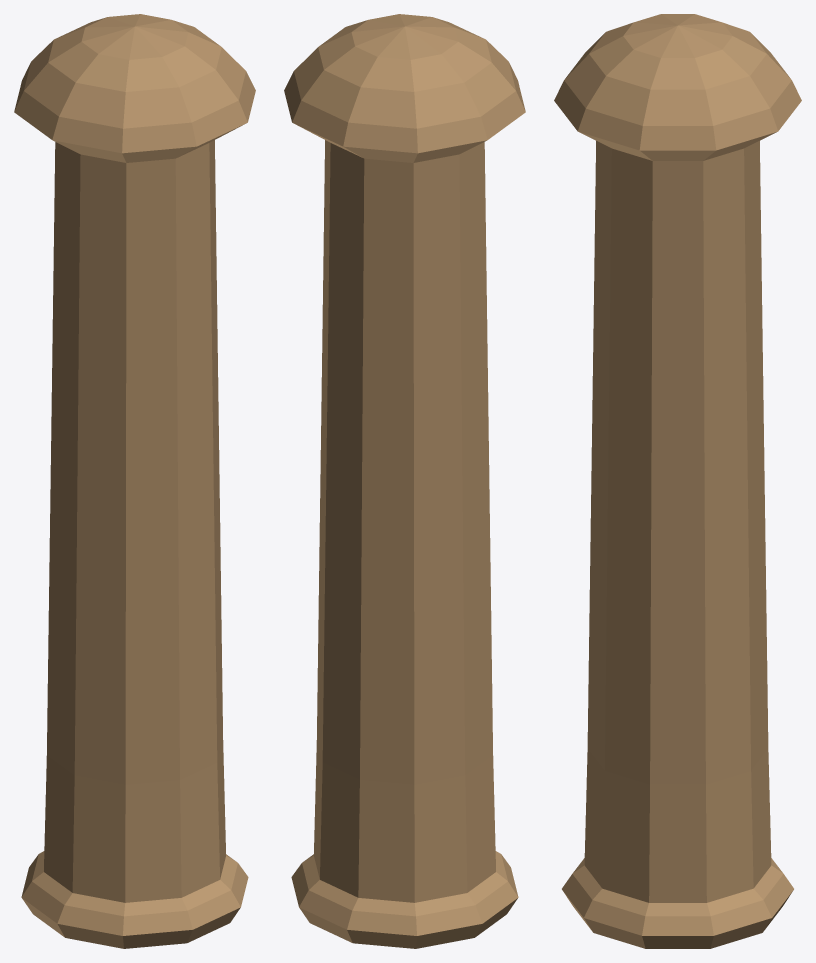
The model's file is env_prop_bollard.glb.
The picture shows the model from 3 angles, left to right: view 1: azimuth 30°, elevation 25°; view 2: azimuth 150°, elevation 25°; view 3: azimuth 270°, elevation 25°; orthographic projection.
Parts seen in each view (by area): view 1: geometry_0; view 2: geometry_0; view 3: geometry_0.
Part boxes in pixels (box(x1,y1,x2,y2)): geometry_0: box(14, 14, 255, 948); geometry_0: box(284, 14, 525, 948); geometry_0: box(554, 14, 801, 948).
Size of the model in its own units: 0.2163 by 0.8918 by 0.2274.
